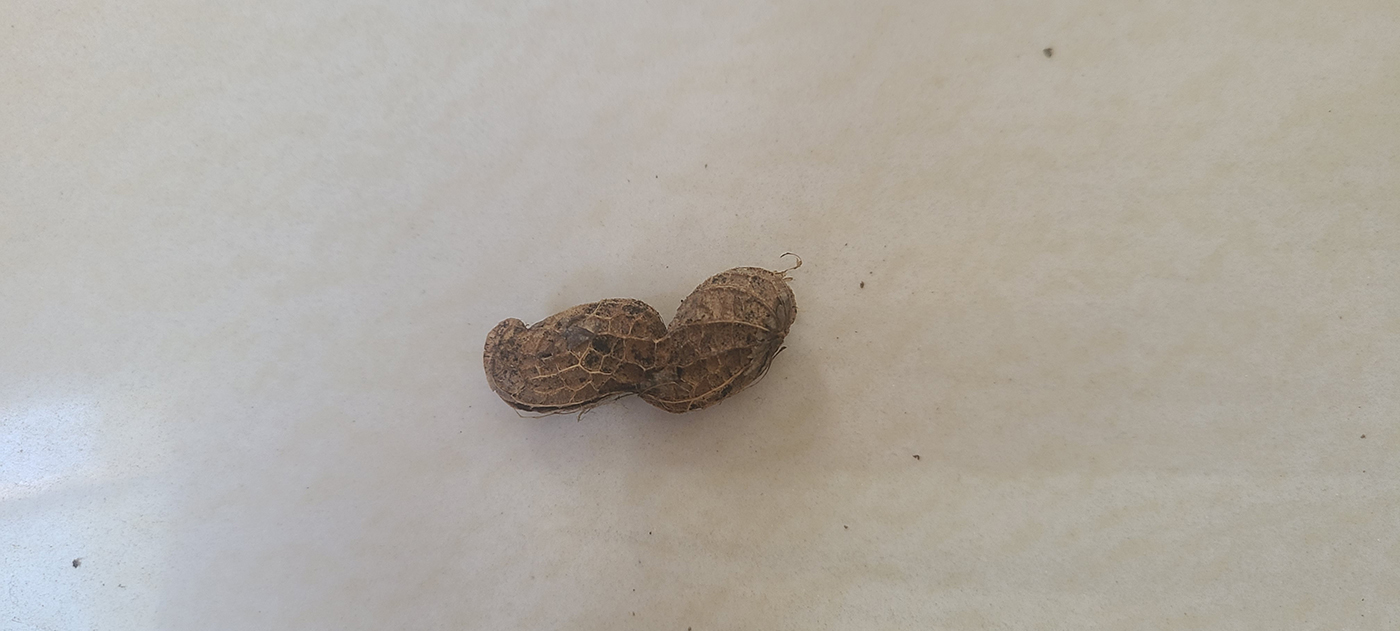l: (477, 264, 796, 414)
